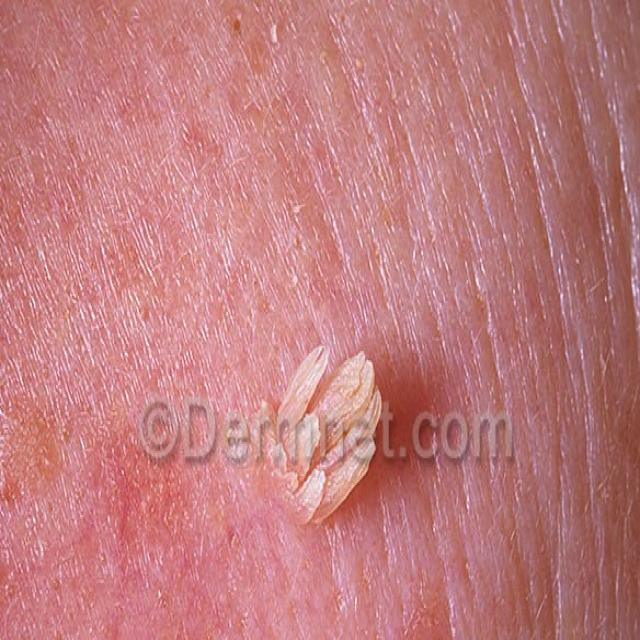Warts: (237, 334, 405, 545)
